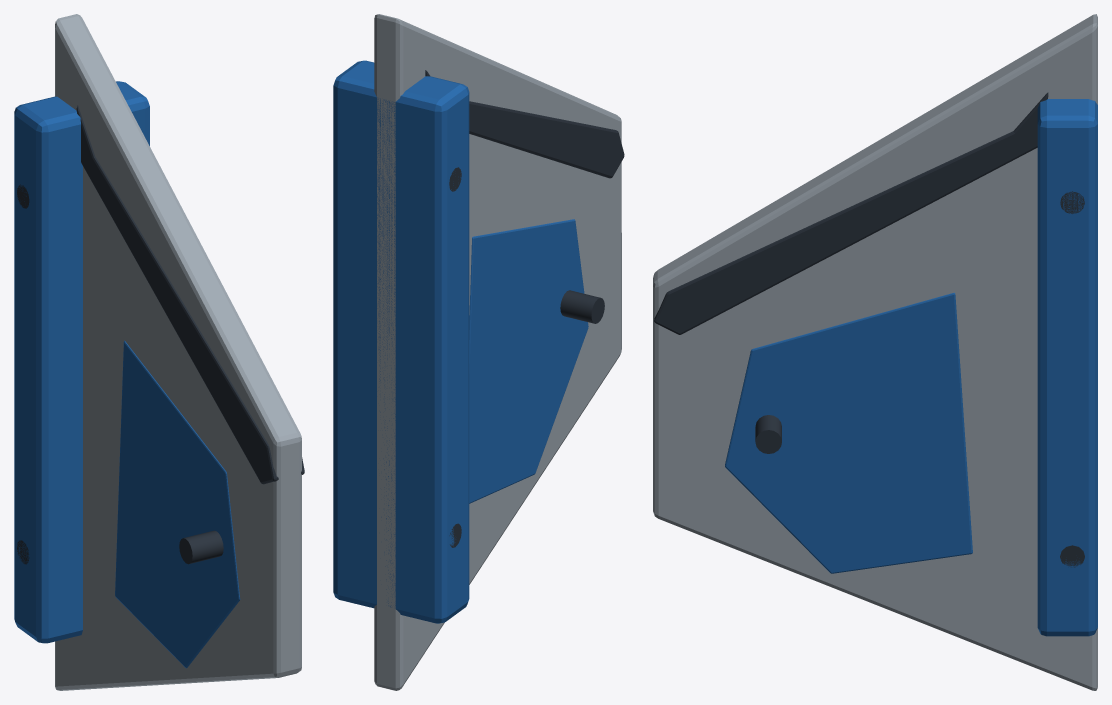
Rendered from procedural-fin-pod.glb.
The picture shows the model from 3 angles, left to right: view 1: azimuth 30°, elevation 25°; view 2: azimuth 150°, elevation 25°; view 3: azimuth 270°, elevation 25°; orthographic projection.
Visible parts, largest first — view 1: SM_Fin_Pod_Blade, SM_Fin_Pod_RootFairing, SM_Fin_Pod_AccessPanel, SM_Fin_Pod_LeadingEdge, SM_Fin_Pod_Hinge; view 2: SM_Fin_Pod_RootFairing, SM_Fin_Pod_Blade, SM_Fin_Pod_AccessPanel, SM_Fin_Pod_LeadingEdge, SM_Fin_Pod_Hinge; view 3: SM_Fin_Pod_Blade, SM_Fin_Pod_AccessPanel, SM_Fin_Pod_RootFairing, SM_Fin_Pod_LeadingEdge, SM_Fin_Pod_Hinge.
Boxes of the visible parts, left/top/right/bottom form: SM_Fin_Pod_Blade: left=55, top=14, right=301, bottom=690; SM_Fin_Pod_RootFairing: left=14, top=81, right=149, bottom=643; SM_Fin_Pod_AccessPanel: left=115, top=340, right=240, bottom=668; SM_Fin_Pod_LeadingEdge: left=76, top=105, right=304, bottom=484; SM_Fin_Pod_Hinge: left=179, top=530, right=223, bottom=564; SM_Fin_Pod_RootFairing: left=333, top=60, right=469, bottom=623; SM_Fin_Pod_Blade: left=374, top=14, right=621, bottom=690; SM_Fin_Pod_AccessPanel: left=469, top=219, right=588, bottom=503; SM_Fin_Pod_LeadingEdge: left=425, top=70, right=624, bottom=178; SM_Fin_Pod_Hinge: left=560, top=290, right=604, bottom=323; SM_Fin_Pod_Blade: left=653, top=14, right=1097, bottom=690; SM_Fin_Pod_AccessPanel: left=725, top=292, right=972, bottom=573; SM_Fin_Pod_RootFairing: left=1037, top=99, right=1097, bottom=636; SM_Fin_Pod_LeadingEdge: left=654, top=92, right=1048, bottom=334; SM_Fin_Pod_Hinge: left=755, top=415, right=781, bottom=453.
Size of the model in its own units: 0.14 by 0.7954 by 0.48.
